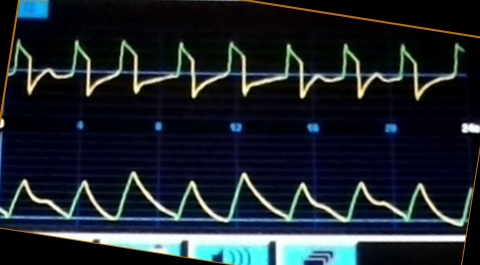Premature_cycling Flow: (9, 36, 465, 111)
Premature_cycling Volume: (1, 166, 472, 228)
